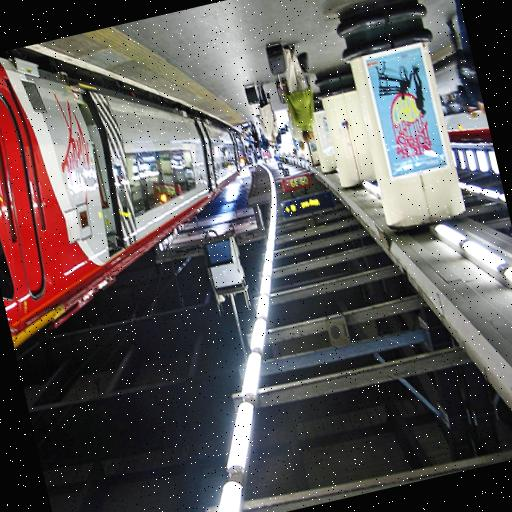platform_edge: (0, 2, 246, 167)
